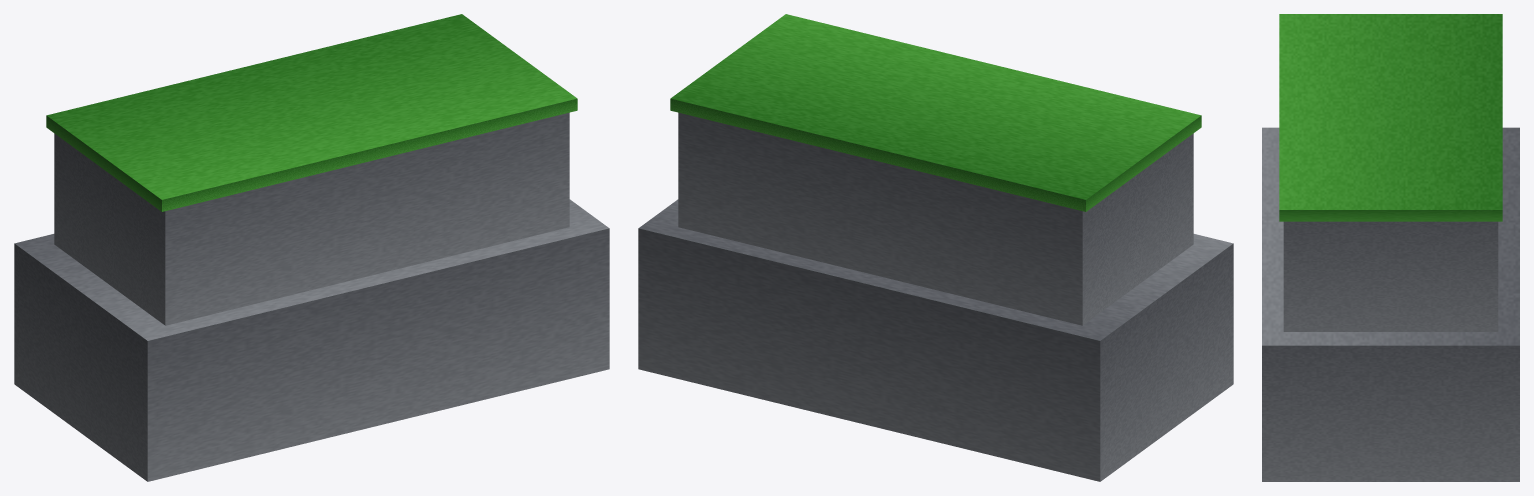
File: terrain_cliff_rock.gltf
3 renders of one model, left to right at view 1: azimuth 30°, elevation 25°; view 2: azimuth 150°, elevation 25°; view 3: azimuth 270°, elevation 25°, orthographic. The views are drawn at different scales.
Parts seen in each view (by area): view 1: terrain_cliff_rock; view 2: terrain_cliff_rock; view 3: terrain_cliff_rock.
Part boxes in pixels (x1,y1,x2,y2): terrain_cliff_rock: (14, 14, 609, 481); terrain_cliff_rock: (638, 14, 1233, 481); terrain_cliff_rock: (1262, 14, 1519, 481).
Size of the model in its own units: 24 by 13.4 by 12.
1 material, 1 textured.
